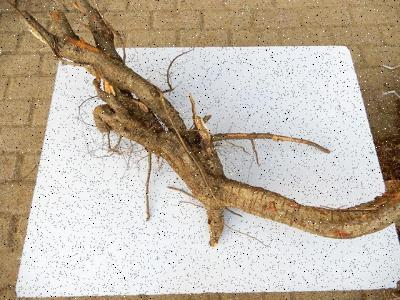Root: (22, 0, 399, 245)
